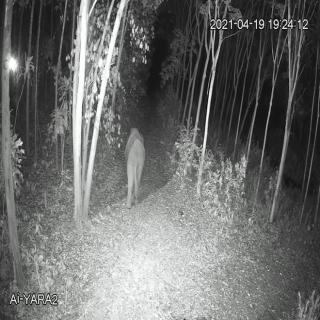Elephant: (122, 124, 147, 210)
